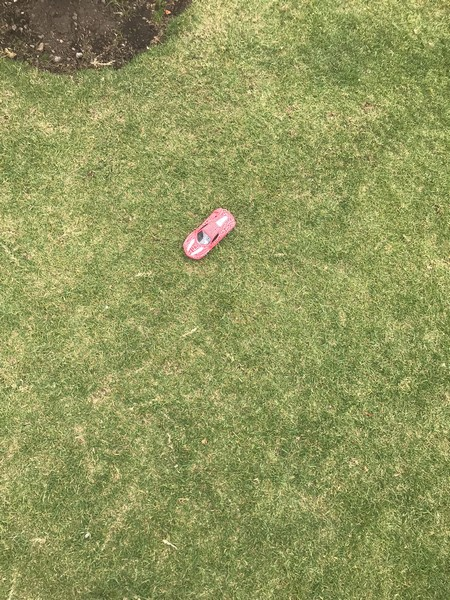RC: (180, 206, 240, 261)
